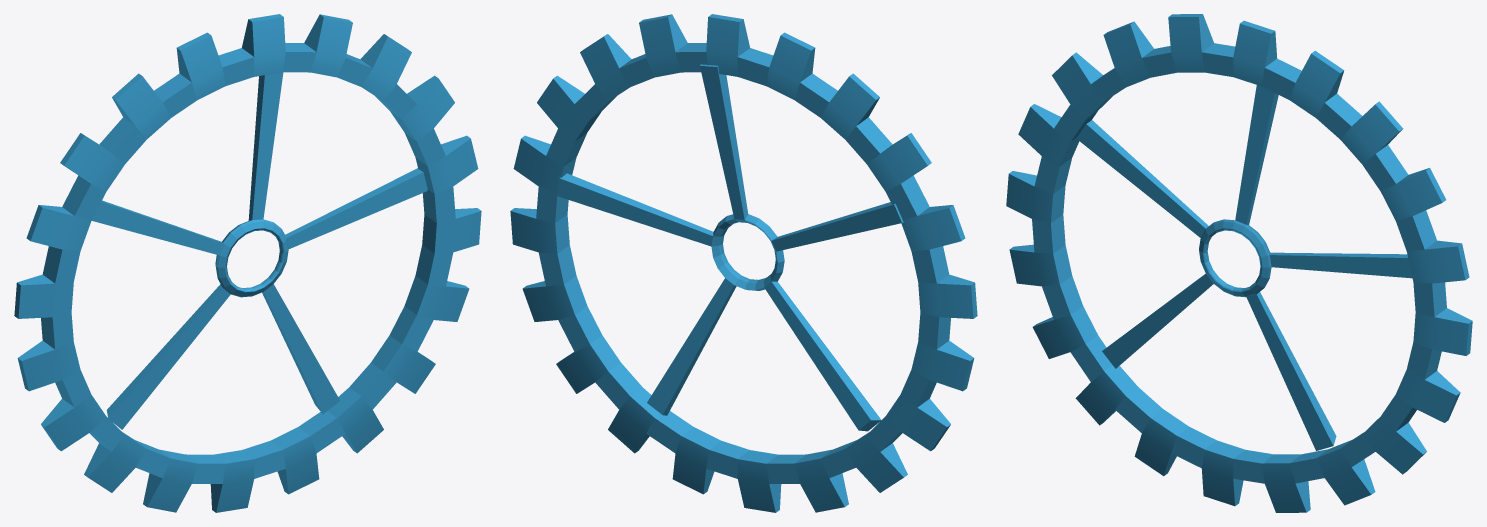
Rendered from Gear_Diam_01_Size_3.fbx.
The picture shows the model from 3 angles, left to right: view 1: azimuth 30°, elevation 25°; view 2: azimuth 150°, elevation 25°; view 3: azimuth 330°, elevation 25°; orthographic projection.
Parts seen in each view (by area): view 1: Gear_Diam_01_Size_3; view 2: Gear_Diam_01_Size_3; view 3: Gear_Diam_01_Size_3.
Part boxes in pixels (<box>): Gear_Diam_01_Size_3: <box>14,14,481,512</box>; Gear_Diam_01_Size_3: <box>510,14,977,512</box>; Gear_Diam_01_Size_3: <box>1006,14,1472,512</box>.
Size of the model in its own units: 26.21 by 26.21 by 1.37.
